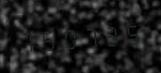five: (38, 22, 58, 54), (123, 17, 143, 48)
seven: (17, 24, 37, 55), (81, 20, 101, 51)
three: (102, 18, 122, 50)
zero: (60, 21, 80, 52)
